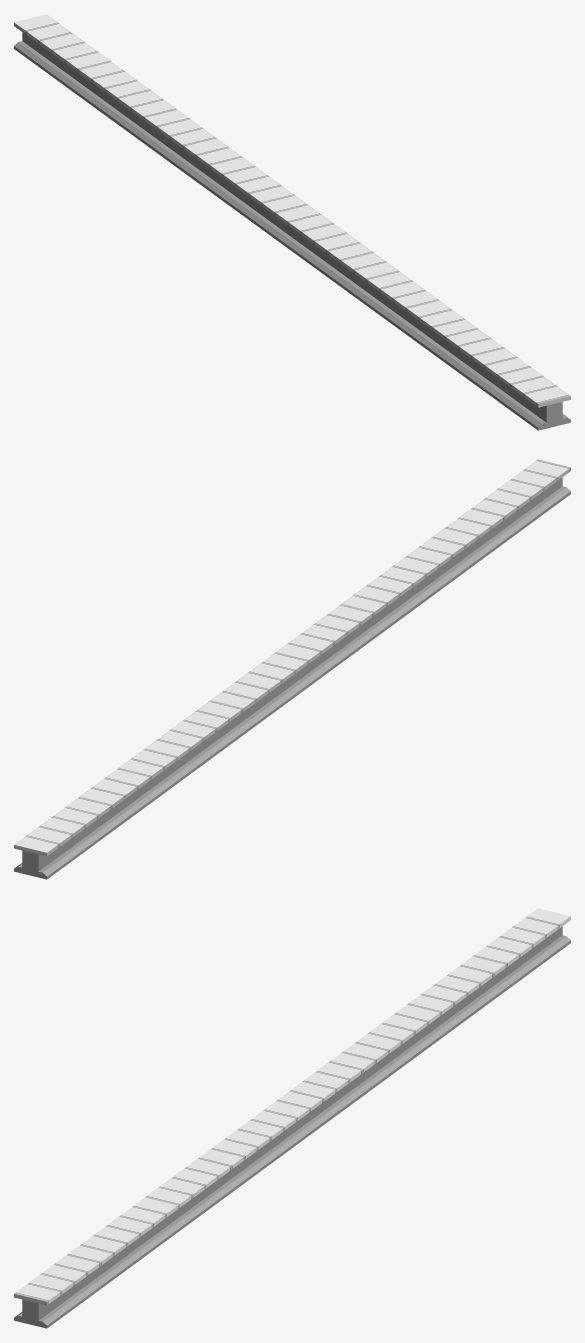
File: conveyor_1.fbx
3 views of the same model, one above another, from view 1: azimuth 30°, elevation 25°; view 2: azimuth 150°, elevation 25°; view 3: azimuth 330°, elevation 25° (orthographic).
Parts seen in each view (by area): view 1: type_1; view 2: type_1; view 3: type_1.
Part boxes in pixels (x1,y1,x2,y2): type_1: (14,14,570,430); type_1: (14,459,570,879); type_1: (14,908,570,1328).
Size of the model in its own units: 52.37 by 38.24 by 1360.
